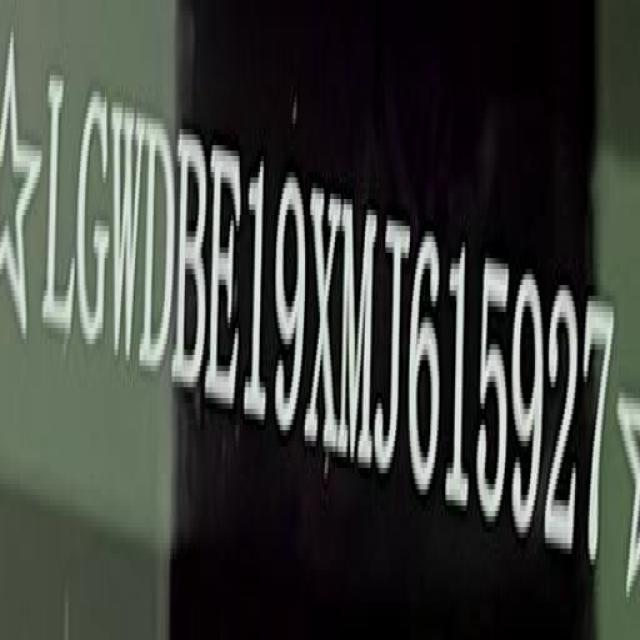1: (242, 152, 270, 428), (444, 241, 472, 512)
2: (544, 273, 576, 566)
5: (476, 251, 509, 536)
6: (408, 215, 442, 496)
7: (580, 283, 616, 568)
9: (510, 261, 542, 542), (274, 170, 305, 448)
B: (172, 123, 207, 404)
D: (142, 113, 174, 374)
E: (206, 137, 243, 410)
G: (76, 91, 111, 356)
J: (373, 195, 410, 494)
L: (41, 70, 77, 356)
M: (339, 191, 379, 472)
W: (108, 86, 144, 364)
X: (307, 185, 340, 454)
